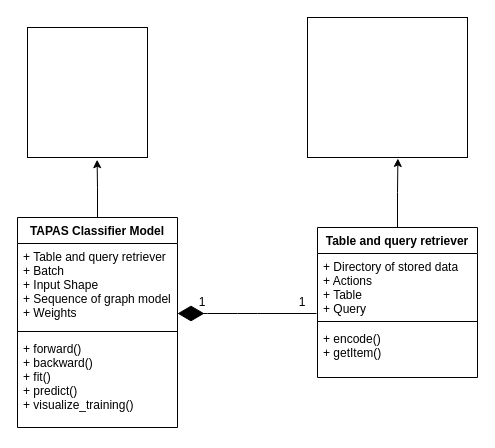
The diagram is 495 pixels wide and 448 high, and some of its shapes have lost their labels. Each missing label, with the centre of its shape:
"<<Interface>> nn.model + forward() + backward() + fit() + predict()" belongs at pixel 87 92.
"<<Interface>> Retriver + Directory of stored data + labels + len() + getItem()" belongs at pixel 387 87.
